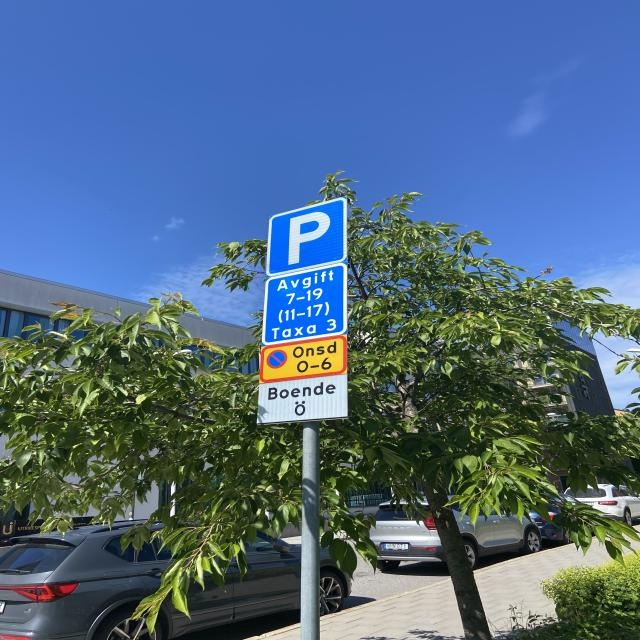P-skylt: (262, 193, 352, 278)
